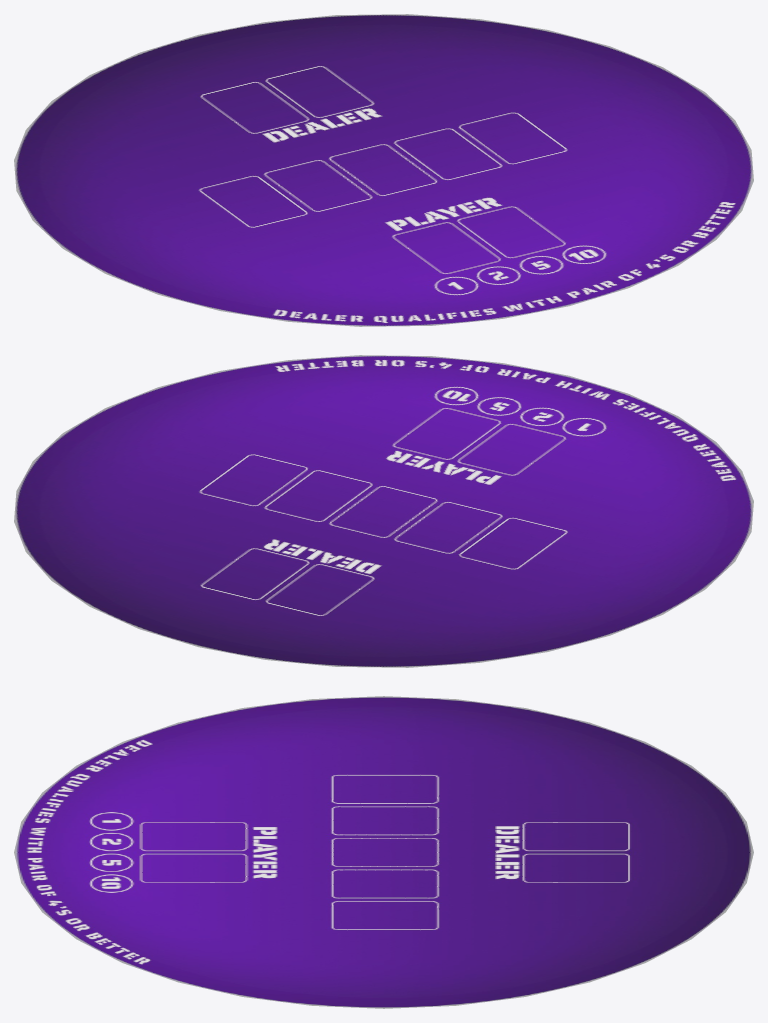
The model's file is tableTop.fbx.
The picture shows the model from 3 angles, top to bottom: view 1: azimuth 30°, elevation 25°; view 2: azimuth 150°, elevation 25°; view 3: azimuth 270°, elevation 25°; orthographic projection.
Parts seen in each view (by area): view 1: Circle; view 2: Circle; view 3: Circle.
Part boxes in pixels (left/top/right/bottom): Circle: left=14, top=14, right=753, bottom=326; Circle: left=14, top=355, right=753, bottom=667; Circle: left=14, top=696, right=753, bottom=1008.
Size of the model in its own units: 748 by 0.000122 by 748.
Materials: 1 (1 with a texture image).
